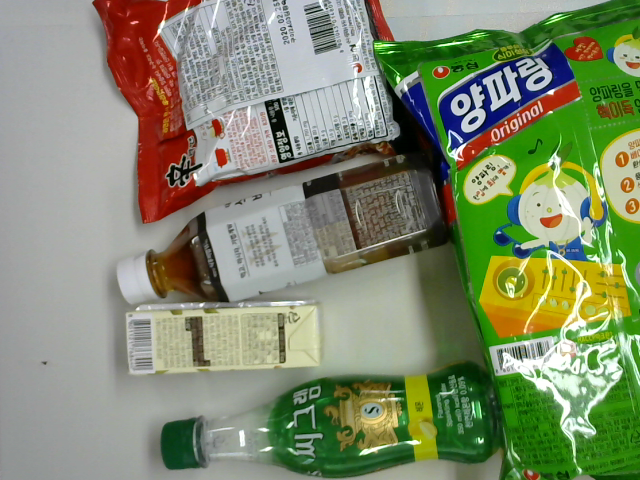99.89_Soymilk: (123, 297, 326, 377)
Oninon_Ring: (373, 1, 640, 477)
Post-meal_recipe_W_tea_500ml: (114, 148, 453, 305)
Seagram_Lemon_Carbonated_Water: (159, 358, 500, 479)
Sinramen: (90, 1, 420, 224)
